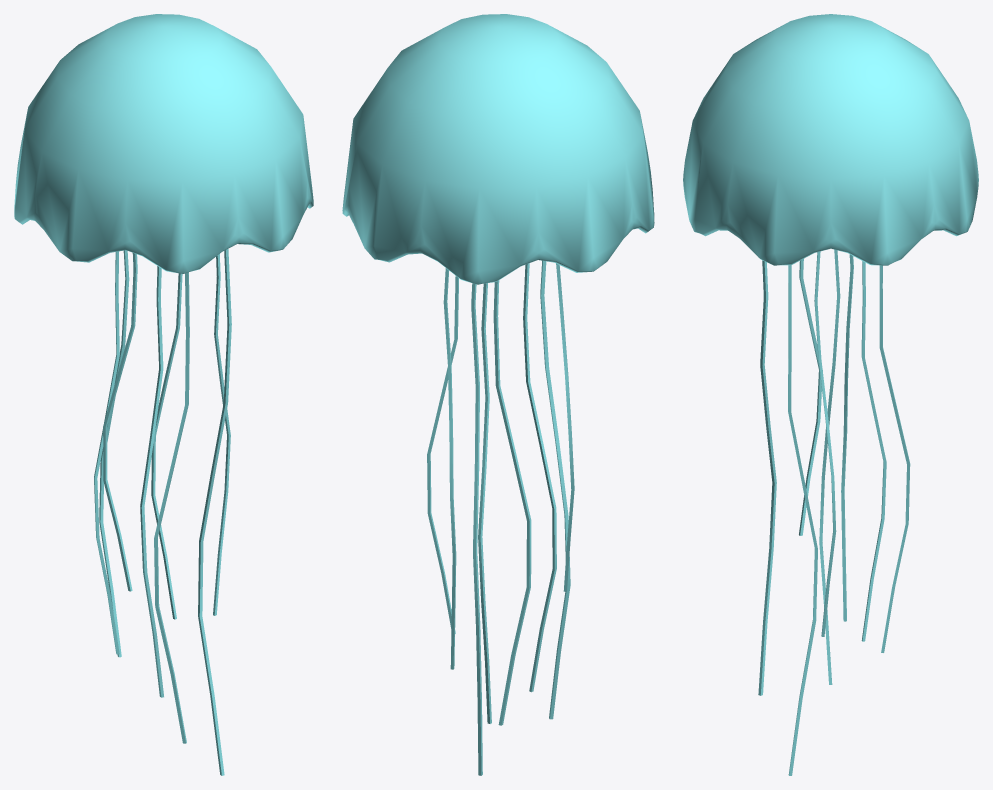
Rendered from jellyfish.fbx.
3 views of the same model, side by side, from view 1: azimuth 30°, elevation 25°; view 2: azimuth 150°, elevation 25°; view 3: azimuth 270°, elevation 25° (orthographic). The views are drawn at different scales.
Parts seen in each view (by area): view 1: jellyfish dome; view 2: jellyfish dome; view 3: jellyfish dome.
Boxes of the visible parts, x1,y1,x2,y2 form: jellyfish dome: (14, 14, 313, 775); jellyfish dome: (342, 14, 654, 775); jellyfish dome: (683, 14, 978, 775).
Size of the model in its own units: 198 by 538 by 198.
